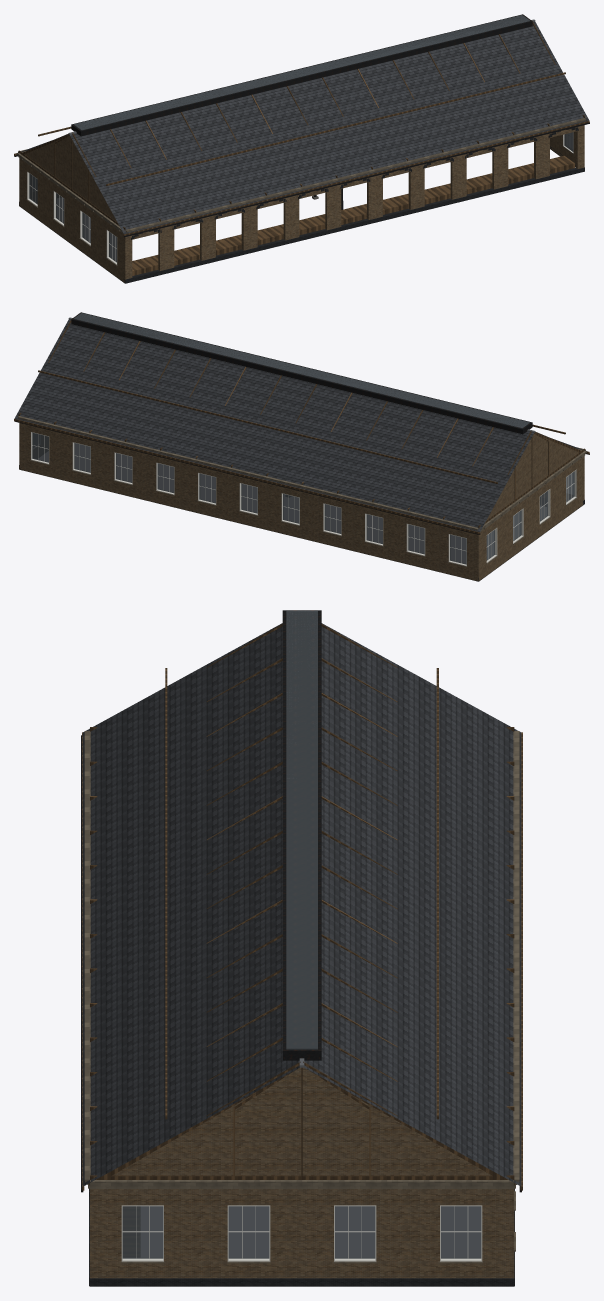
The model's file is A_transit_shed.glb.
The picture shows the model from 3 angles, top to bottom: view 1: azimuth 30°, elevation 25°; view 2: azimuth 150°, elevation 25°; view 3: azimuth 270°, elevation 25°; orthographic projection. The views are drawn at different scales.
Visible parts, largest first — view 1: A_transit_shed; view 2: A_transit_shed; view 3: A_transit_shed.
Part boxes in pixels (x1,y1,x2,y2): A_transit_shed: [14, 14, 589, 283]; A_transit_shed: [14, 312, 589, 581]; A_transit_shed: [81, 610, 522, 1286].
Bounding box in the file's own units: 60.8 × 14.5 × 24.99.
12 materials, 8 textured.
